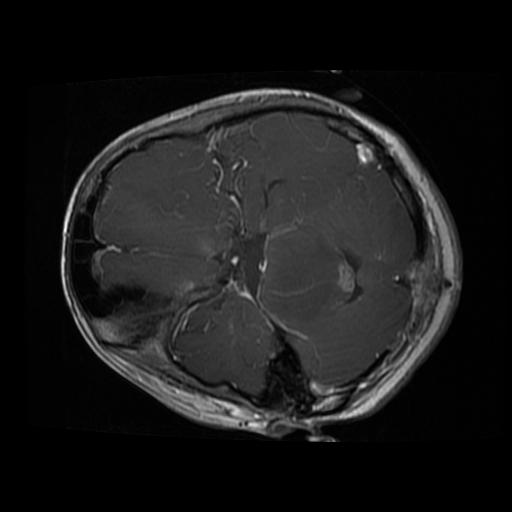glioma: (176, 291, 277, 392)
